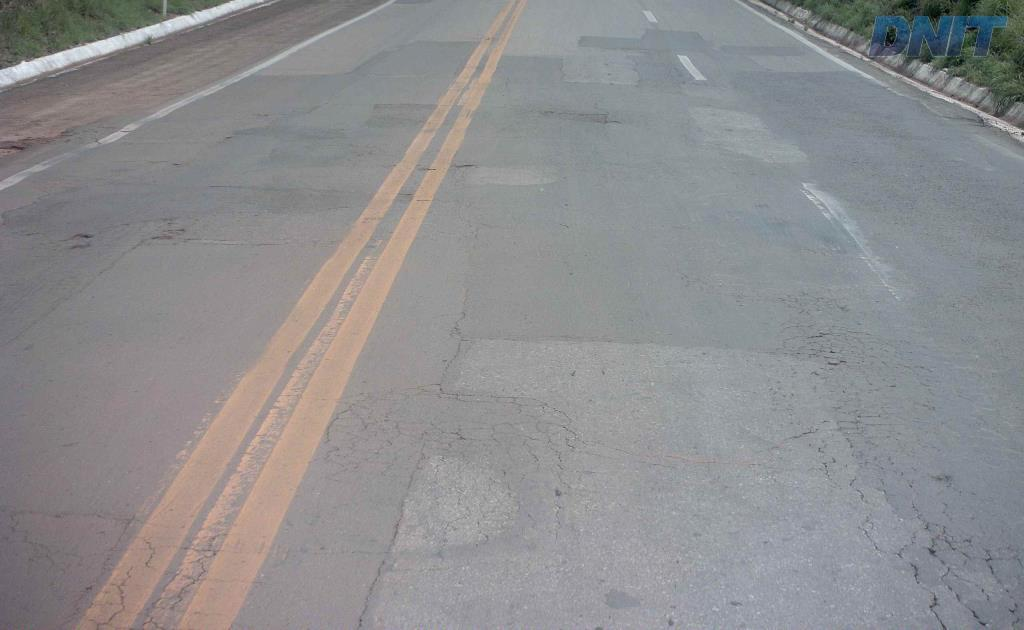crack: (921, 518, 974, 557)
